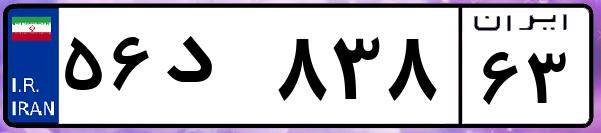3: (330, 28, 385, 110), (525, 38, 570, 115)
5: (57, 26, 110, 100)
6: (475, 38, 525, 113), (110, 28, 158, 98)
8: (270, 28, 330, 110), (385, 28, 445, 110)
د: (158, 20, 270, 120)
